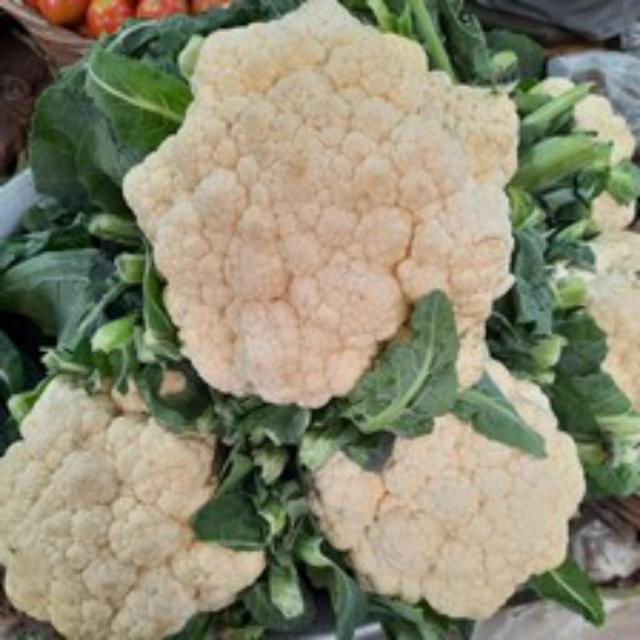cauliflower: (105, 0, 545, 449)
